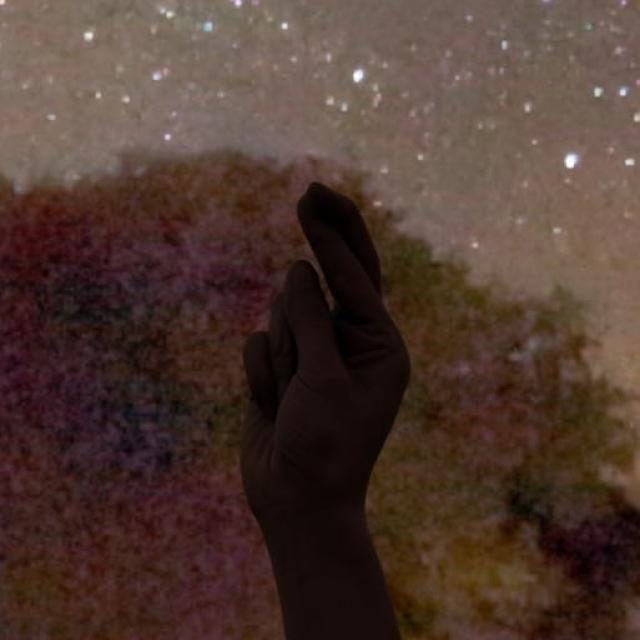R: (232, 178, 413, 522)
